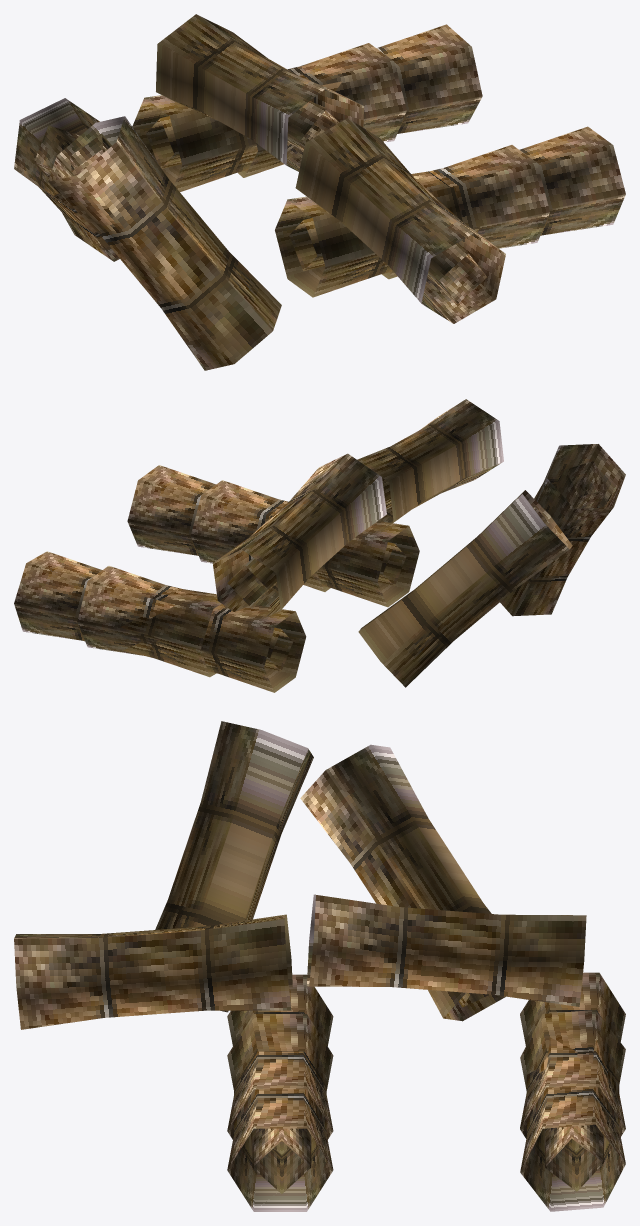
The model's file is Straw02.obj.
3 views of the same model, one above another, from view 1: azimuth 30°, elevation 25°; view 2: azimuth 150°, elevation 25°; view 3: azimuth 270°, elevation 25° (orthographic). The views are drawn at different scales.
Visible parts, largest first — view 1: Mesh_0; view 2: Mesh_0; view 3: Mesh_0.
Boxes of the visible parts, bbox=[...] form: Mesh_0: bbox=[14, 14, 625, 370]; Mesh_0: bbox=[14, 399, 625, 692]; Mesh_0: bbox=[14, 721, 625, 1211].
Bounding box in the file's own units: 5.05 × 2.08 × 4.6.
1 material, 1 textured.
